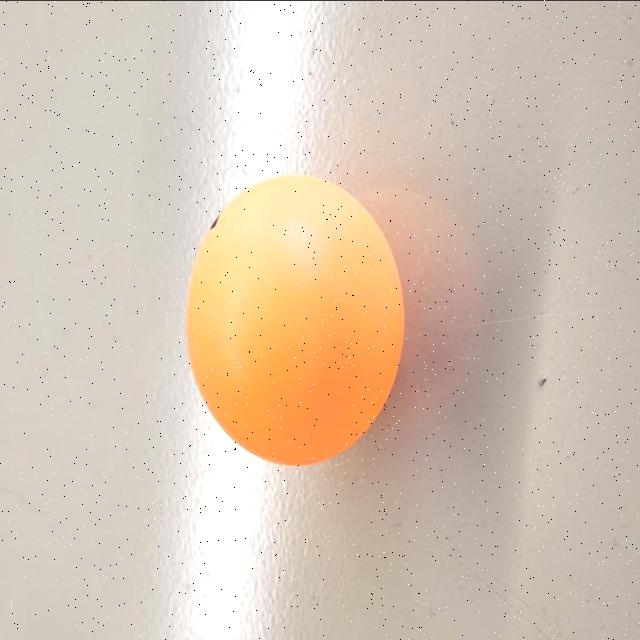ping-pong-ball: (178, 173, 422, 481)
